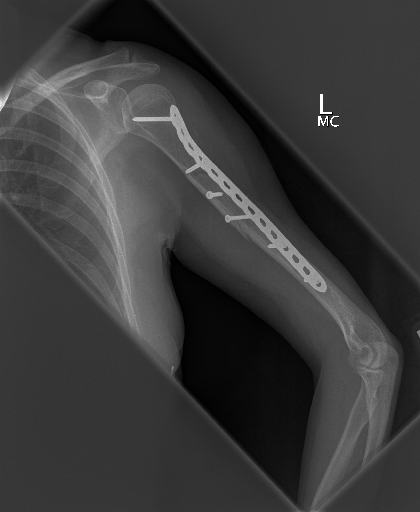implant: (129, 100, 210, 179), (255, 211, 326, 297), (201, 171, 263, 225)
